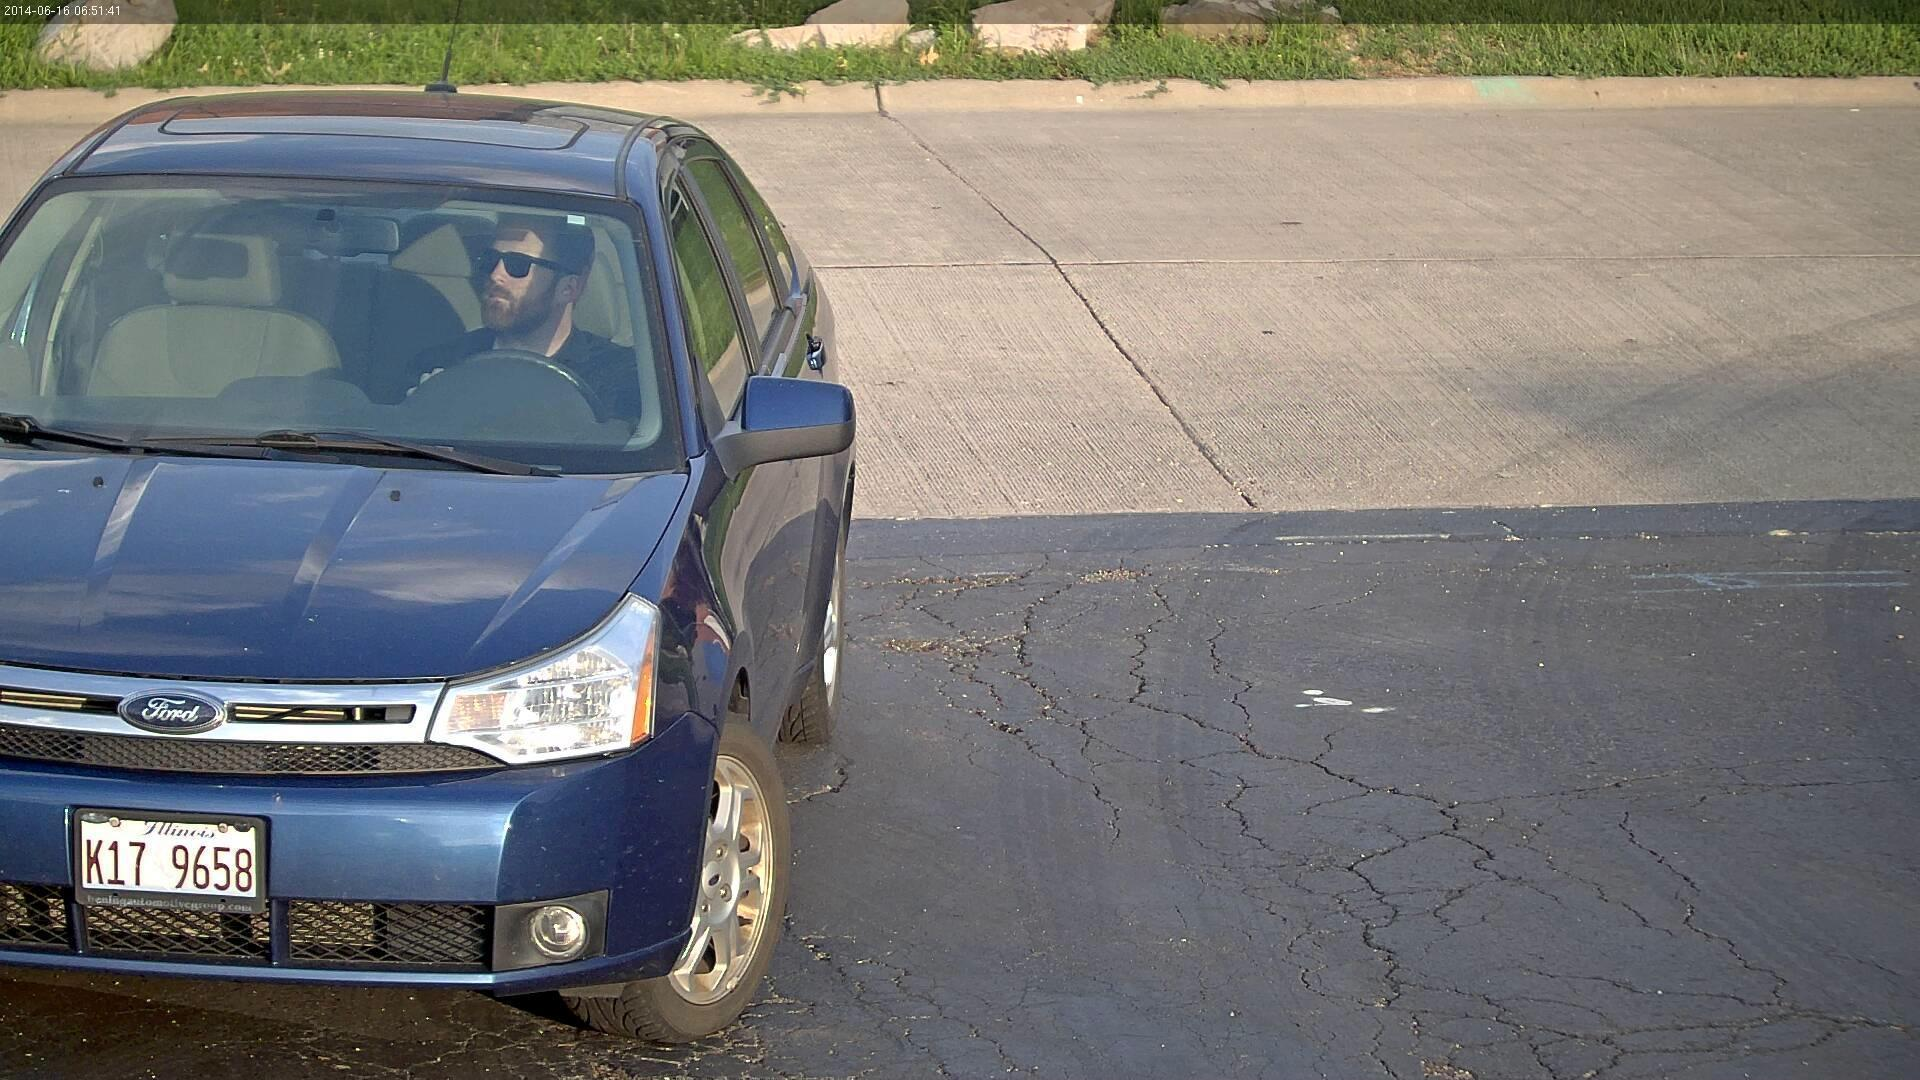placa de veiculo: (63, 793, 289, 918)
